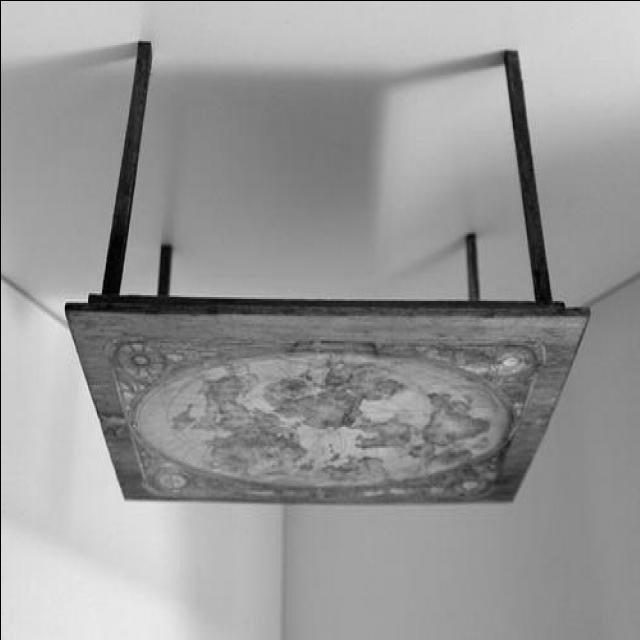table: (64, 41, 588, 507)
